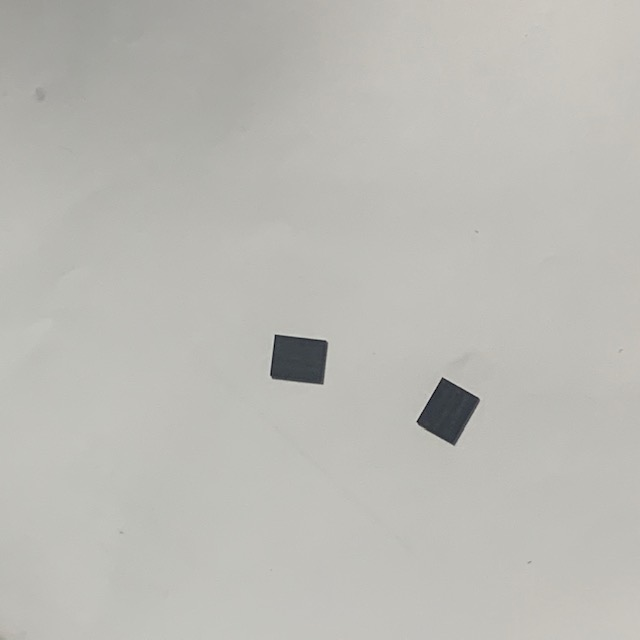IC: (414, 374, 484, 450), (267, 332, 330, 389)
